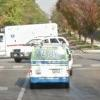Car: (8, 33, 74, 64)
